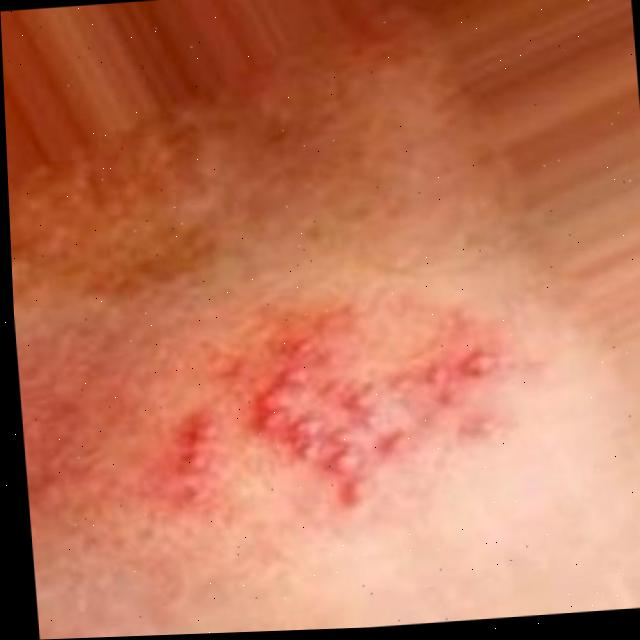Shingles: (241, 329, 524, 523), (174, 414, 227, 506)
